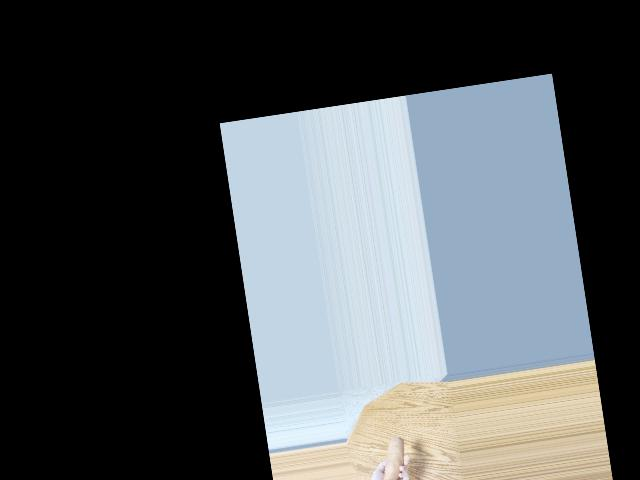sweet_potato: (365, 434, 415, 480)
